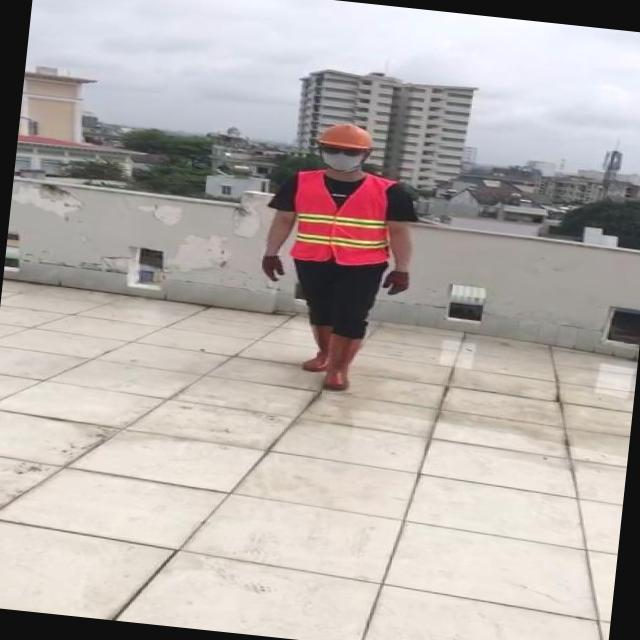boots: (320, 330, 364, 392), (295, 321, 334, 372)
gloves: (374, 262, 420, 311), (257, 244, 290, 292)
helmet: (316, 119, 378, 151)
vest: (290, 166, 392, 268)
